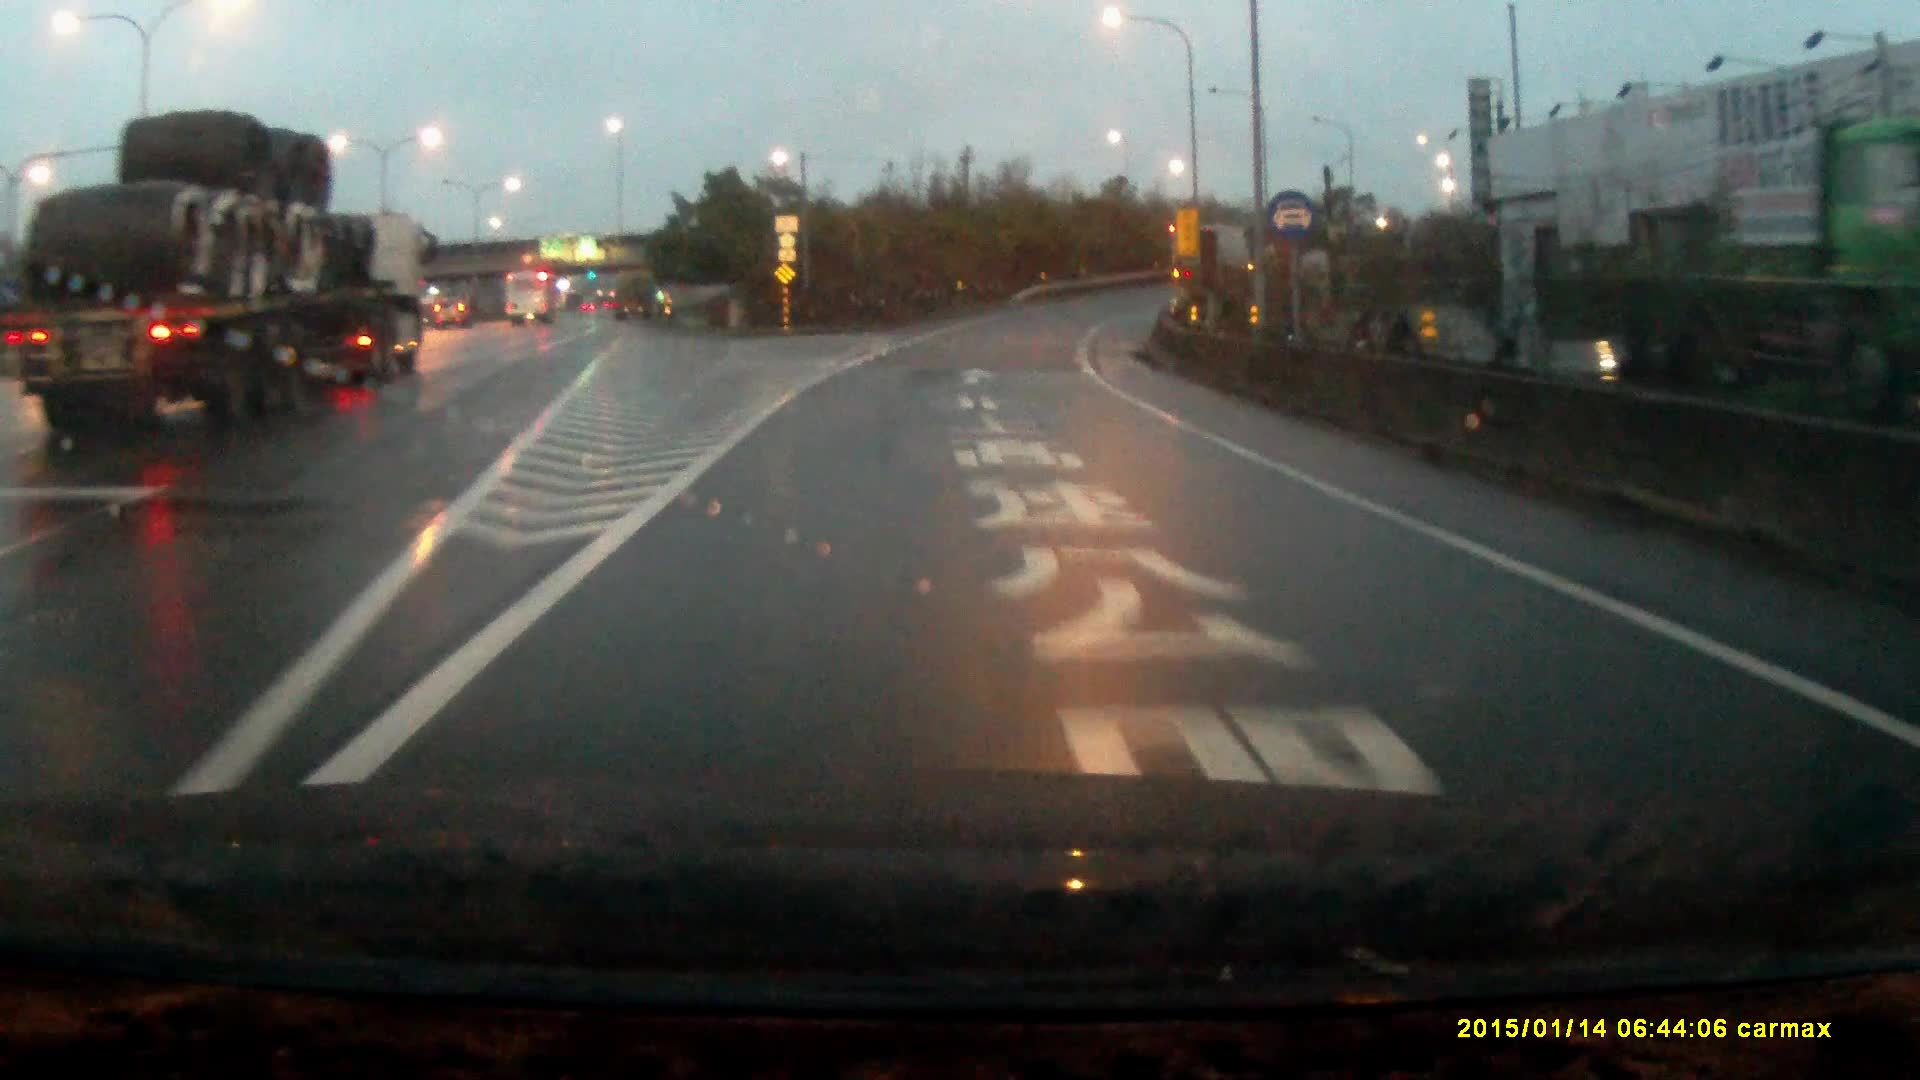vehicle: (26, 111, 433, 429), (505, 273, 563, 328), (434, 298, 472, 332)
